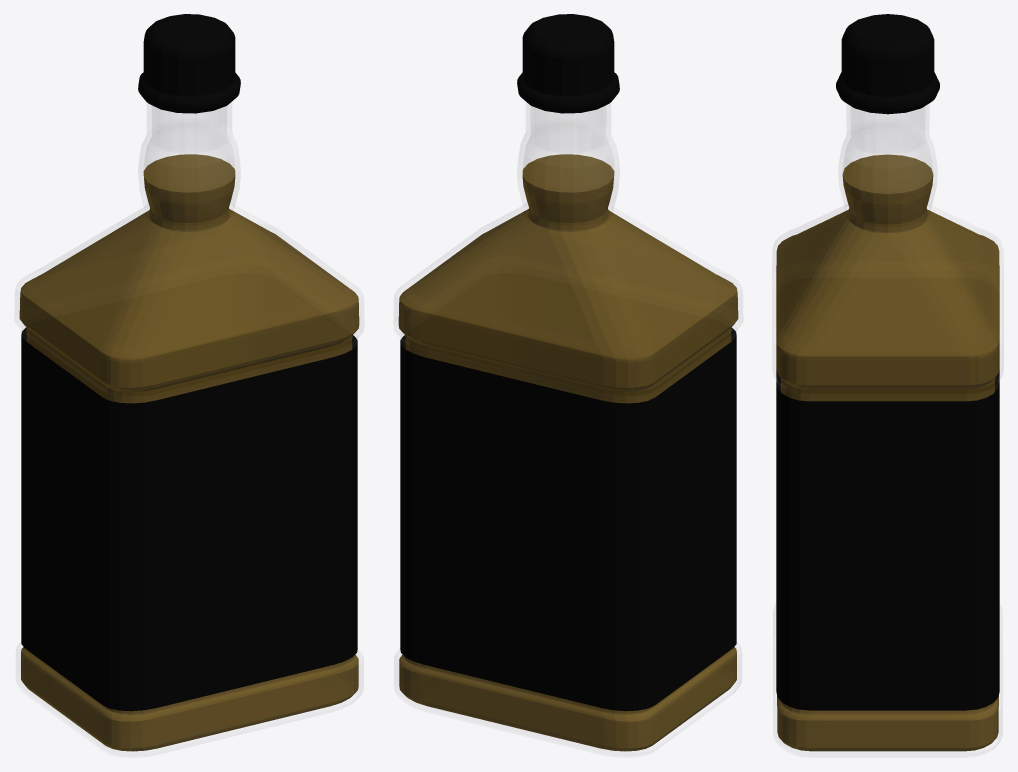
Rendered from Bottle_3.fbx.
The picture shows the model from 3 angles, left to right: view 1: azimuth 30°, elevation 25°; view 2: azimuth 150°, elevation 25°; view 3: azimuth 270°, elevation 25°; orthographic projection.
Parts seen in each view (by area): view 1: Bottle3.001; view 2: Bottle3.001; view 3: Bottle3.001.
Boxes of the visible parts, x1,y1,x2,y2 form: Bottle3.001: (15,14,363,757); Bottle3.001: (394,14,742,757); Bottle3.001: (772,14,1003,757).
Bounding box in the file's own units: 38.39 × 93.16 × 29.33.
